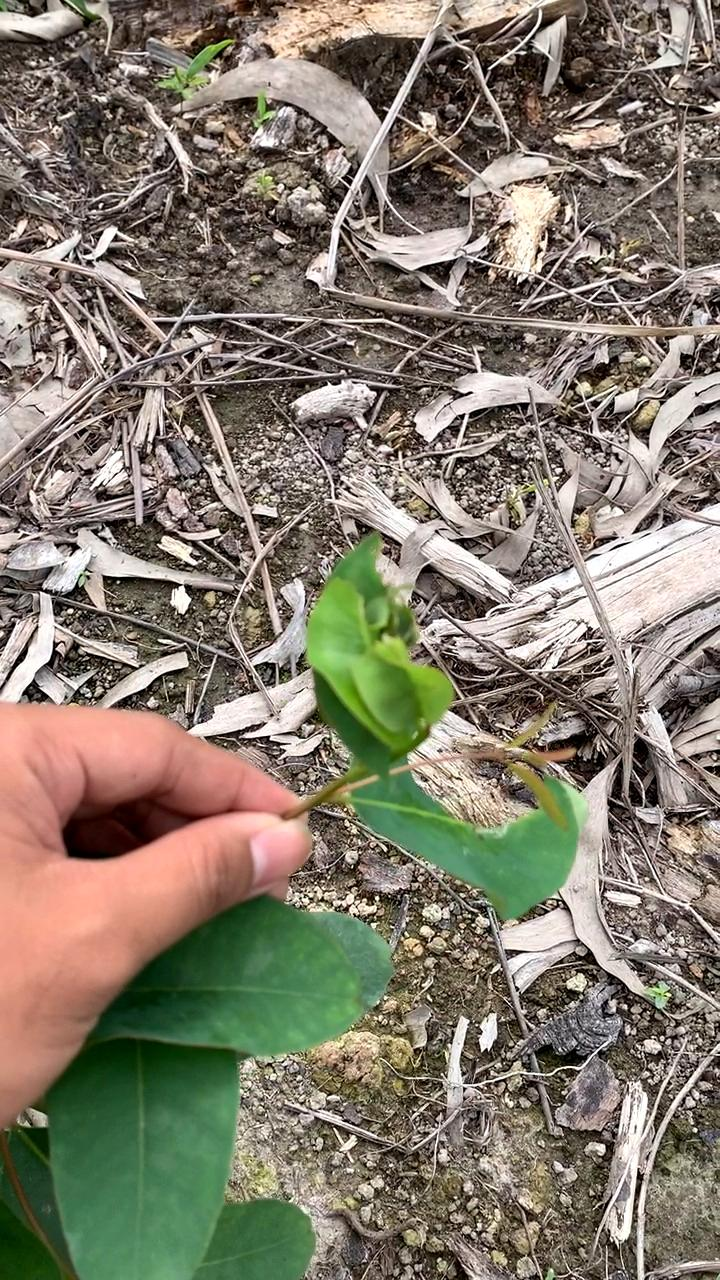Leaf Roller - Leaf: (289, 536, 476, 780)
